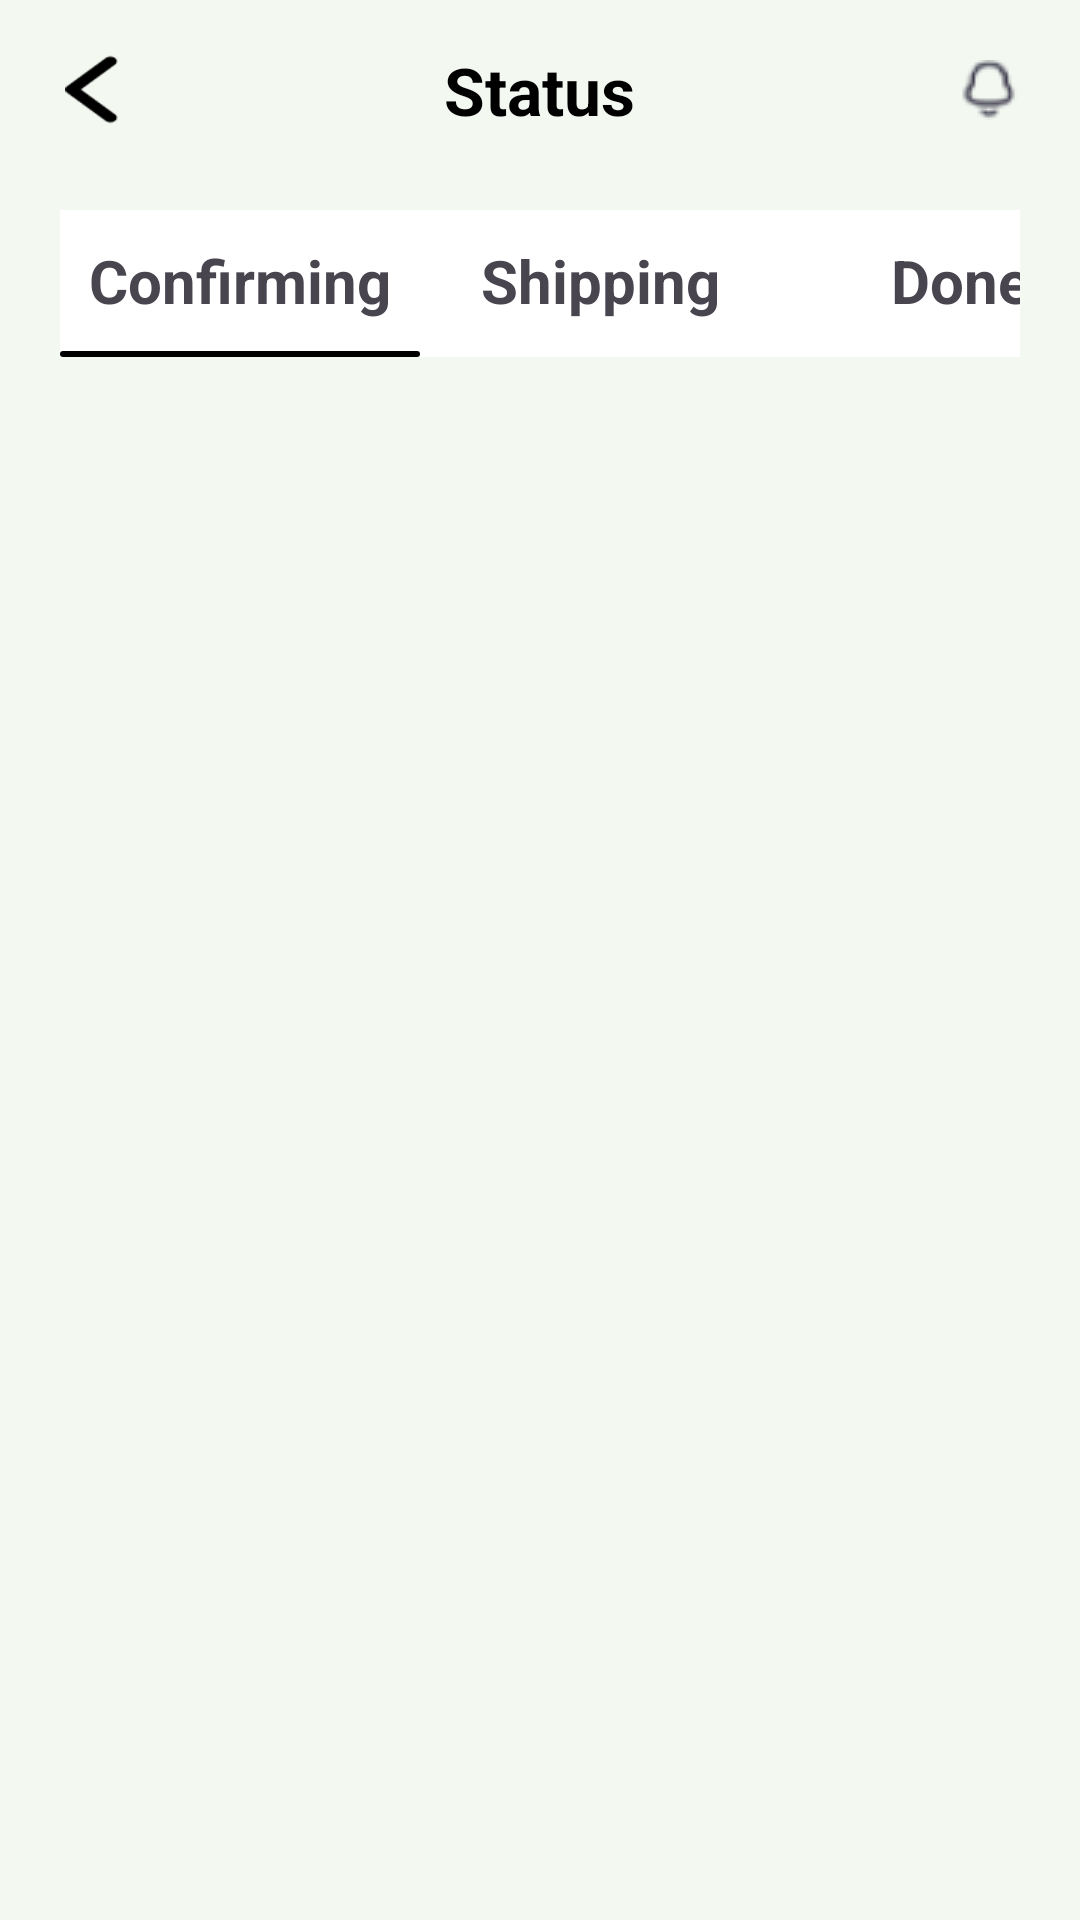

Icon bounding boxes for this 1080 x 1920 phone screenshot, format (x1, y1, x2, y2):
back: (65, 56, 118, 123)
notification: (962, 60, 1015, 118)
